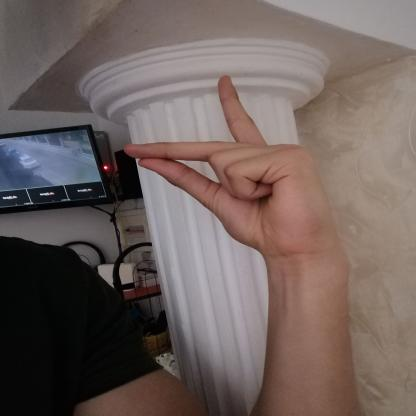TAA: (110, 66, 349, 265)
